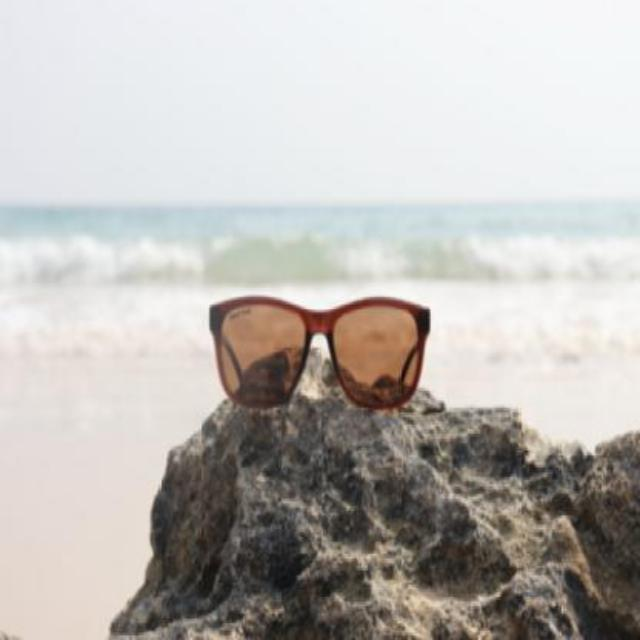sunglasses: (208, 294, 428, 410)
